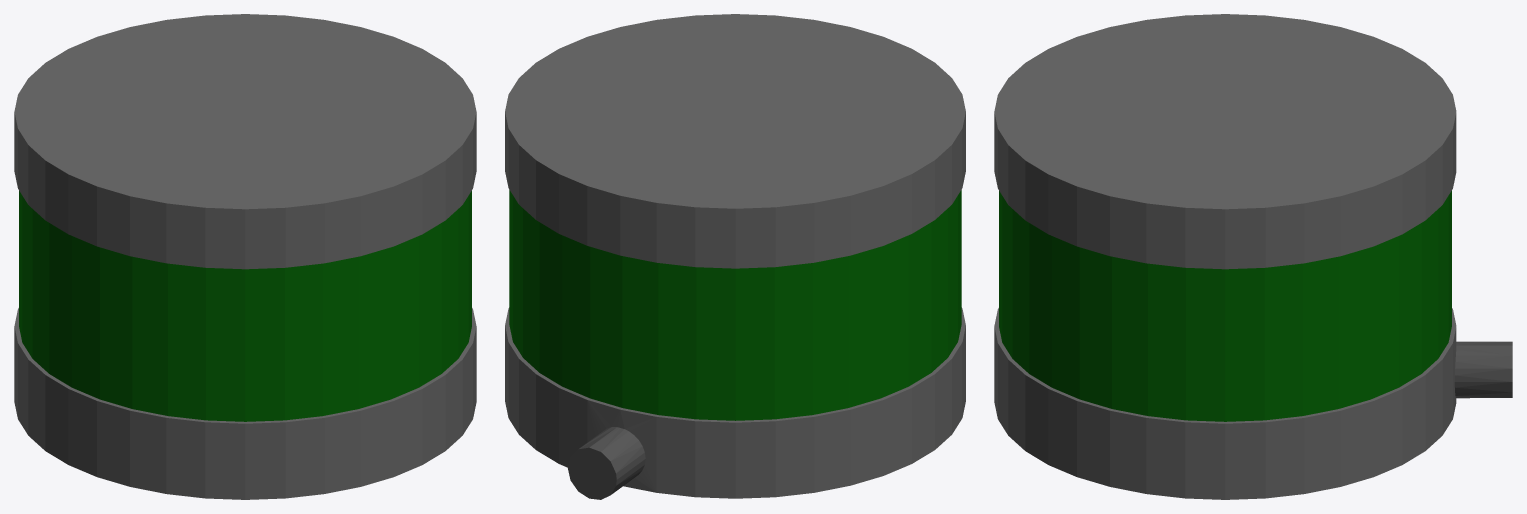
Rendered from vlp16.dae.
3 renders of one model, left to right at view 1: azimuth 30°, elevation 25°; view 2: azimuth 150°, elevation 25°; view 3: azimuth 270°, elevation 25°, orthographic.
Parts seen in each view (by area): view 1: Component_9 (×5); view 2: Component_9 (×5); view 3: Component_9 (×6).
Boxes of the visible parts, x1,y1,x2,y2 form: Component_9 (×5): (14, 14, 476, 499); Component_9 (×5): (505, 14, 965, 499); Component_9 (×6): (994, 14, 1512, 499).
Bounding box in the file's own units: 4.07 × 4.56 × 2.82.
